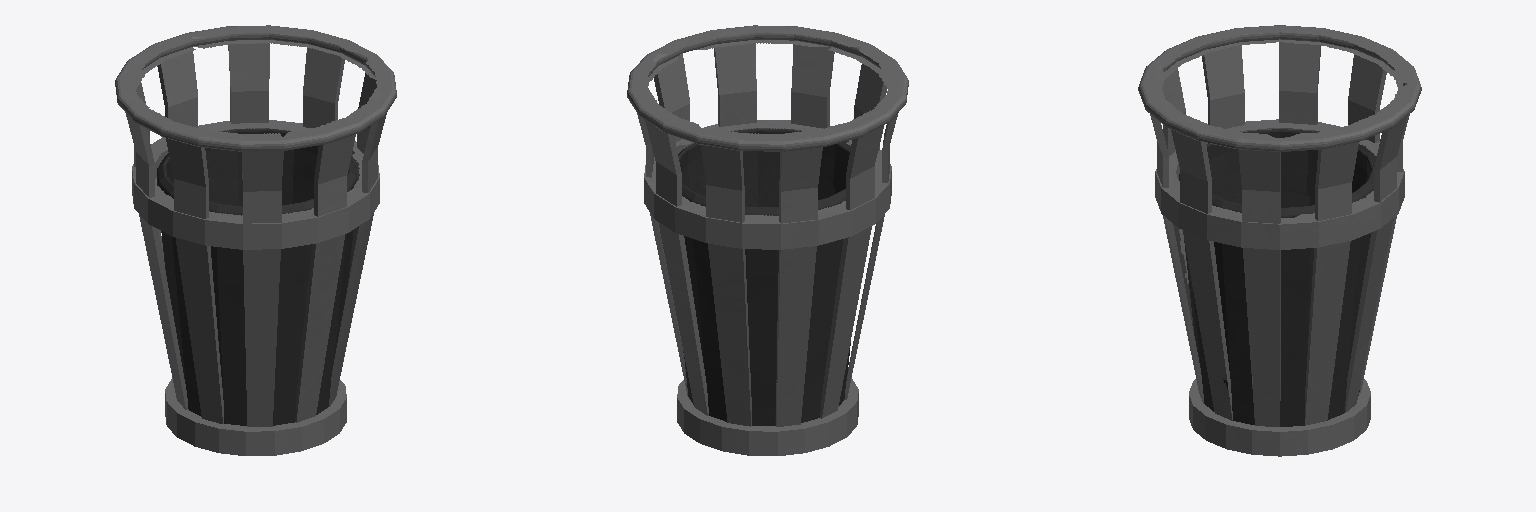
3 renders of one model, left to right at view 1: azimuth 30°, elevation 25°; view 2: azimuth 150°, elevation 25°; view 3: azimuth 270°, elevation 25°, orthographic.
Parts seen in each view (by area): view 1: pCylinder8; view 2: pCylinder8; view 3: pCylinder8.
Boxes of the visible parts, x1=… form: pCylinder8: x1=115, y1=25, x2=396, y2=455; pCylinder8: x1=627, y1=25, x2=908, y2=455; pCylinder8: x1=1138, y1=25, x2=1421, y2=456.
Bounding box in the file's own units: 0.7248 × 0.973 × 0.7248.
3 materials, 2 textured.